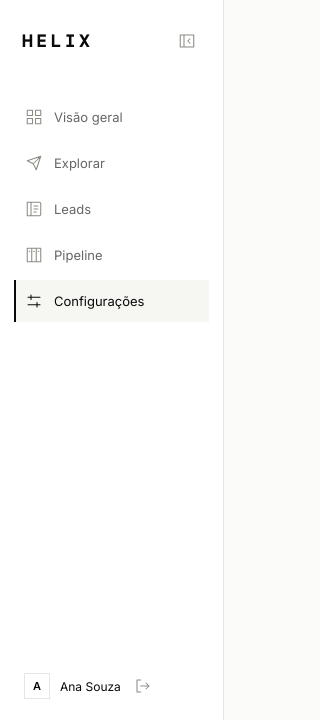
Test: sidebar recolhível › alterna entre a marca por escrito e somente o símbolo
This screenshot has width=320, height=720.
expect the link with aria-label "Helix — início" reads "HELIX": met, box [22,32,93,50]
Click the button named "Recolher menu": (187, 41) [173,27,201,55]
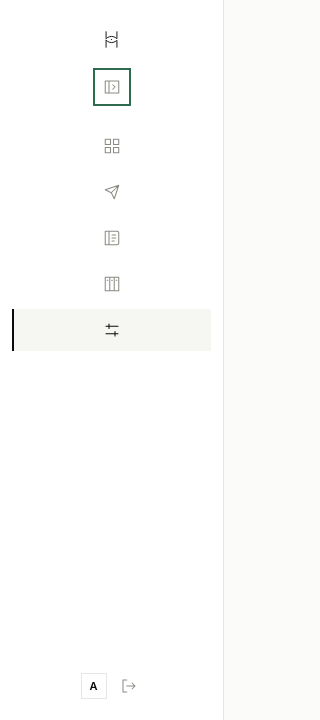
expect the link named "Helix — início" is empty: met, box [96,24,127,55]
Click the button named "Expandir menu": (112, 87) [98,73,126,101]
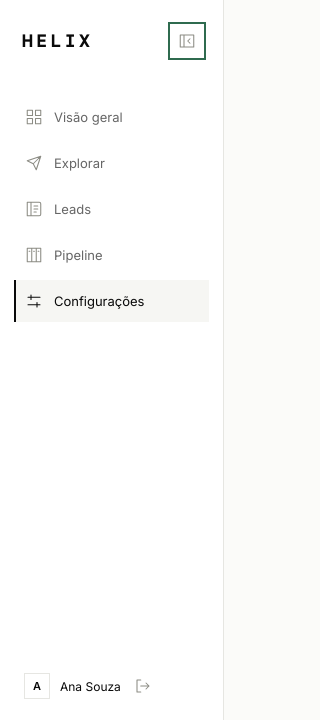
expect the link with aria-label "Helix — início" reads "HELIX": met, box [22,32,93,50]
